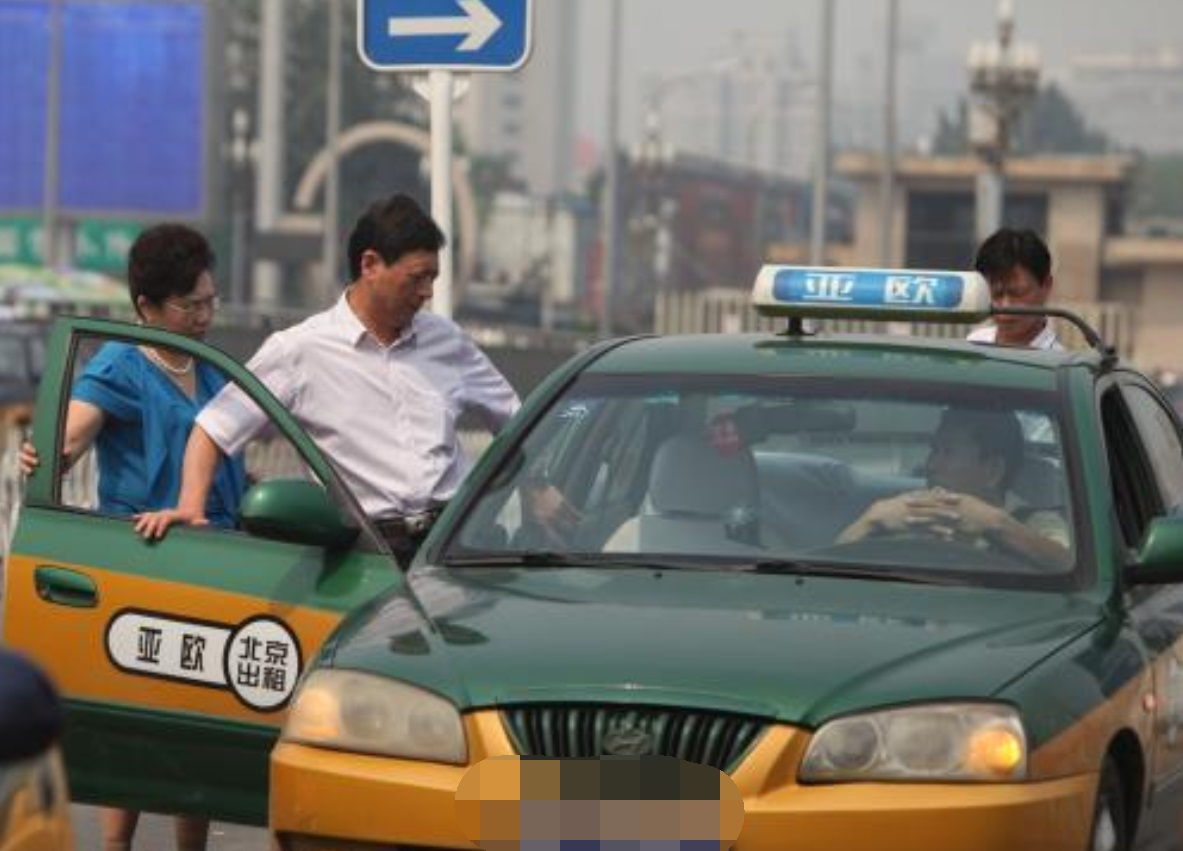taxi: (28, 262, 1183, 851)
